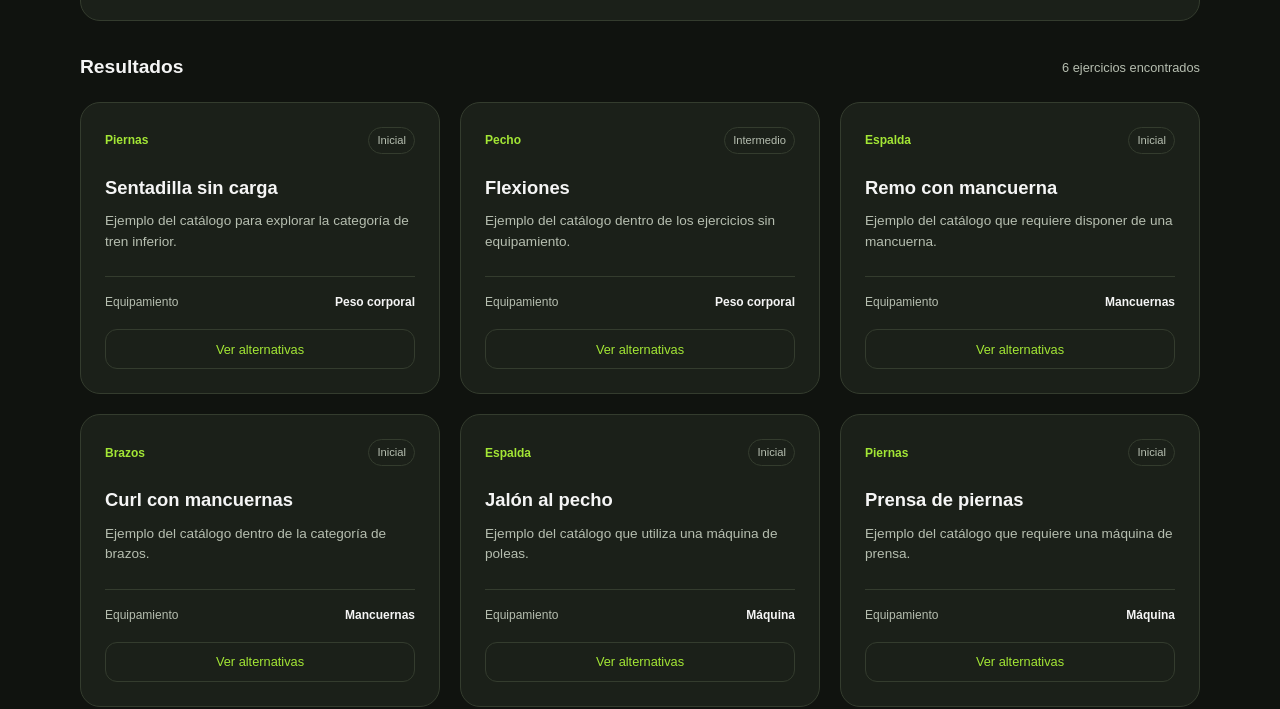
Test: CatalogComponent › muestra el estado sin conexiones para Flexiones
(page scrolled)
Click the button "Ver alternativas" below "Flexiones" at (640, 349), box [485,329,795,369]
(page scrolled)
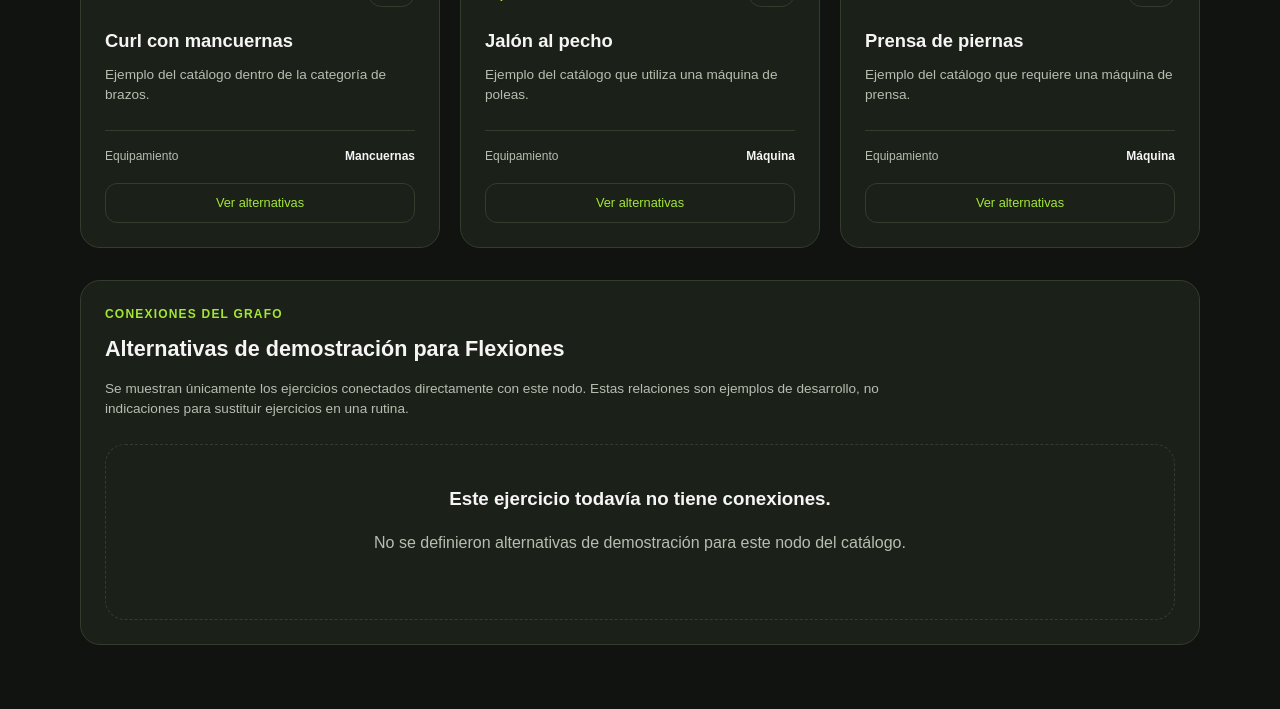
expect the element with id "alternatives-panel" shows "Este ejercicio todavía no tiene conexiones.": met, box [449,488,831,509]
